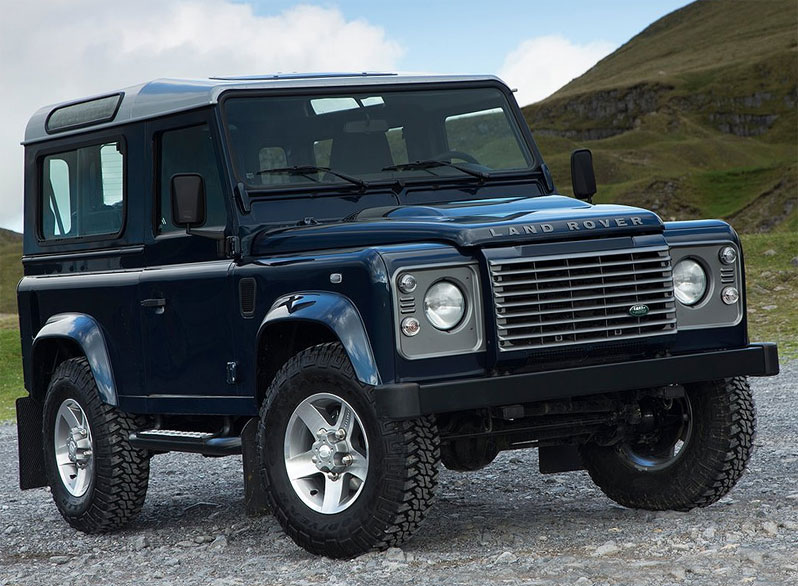pickup: (13, 70, 778, 560)
